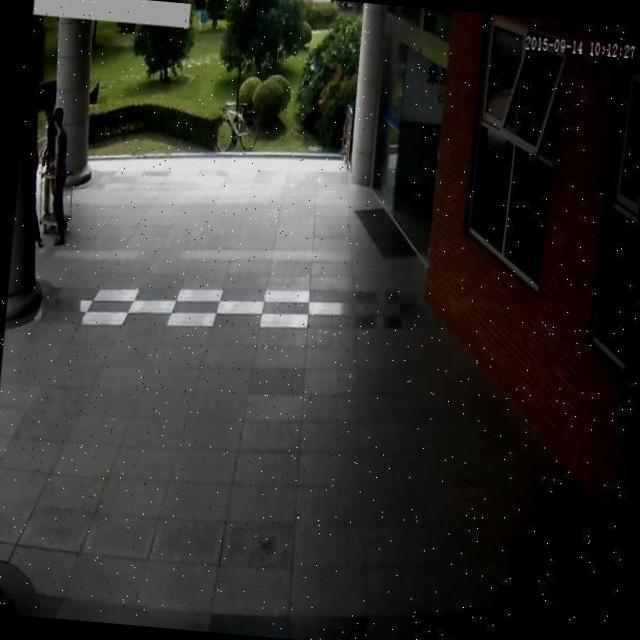person: (39, 99, 82, 250)
